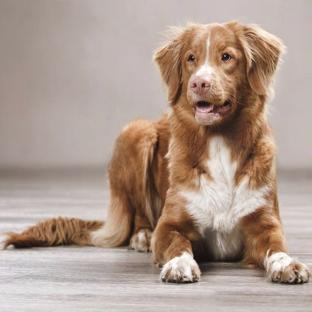Animal: (3, 21, 312, 283)
